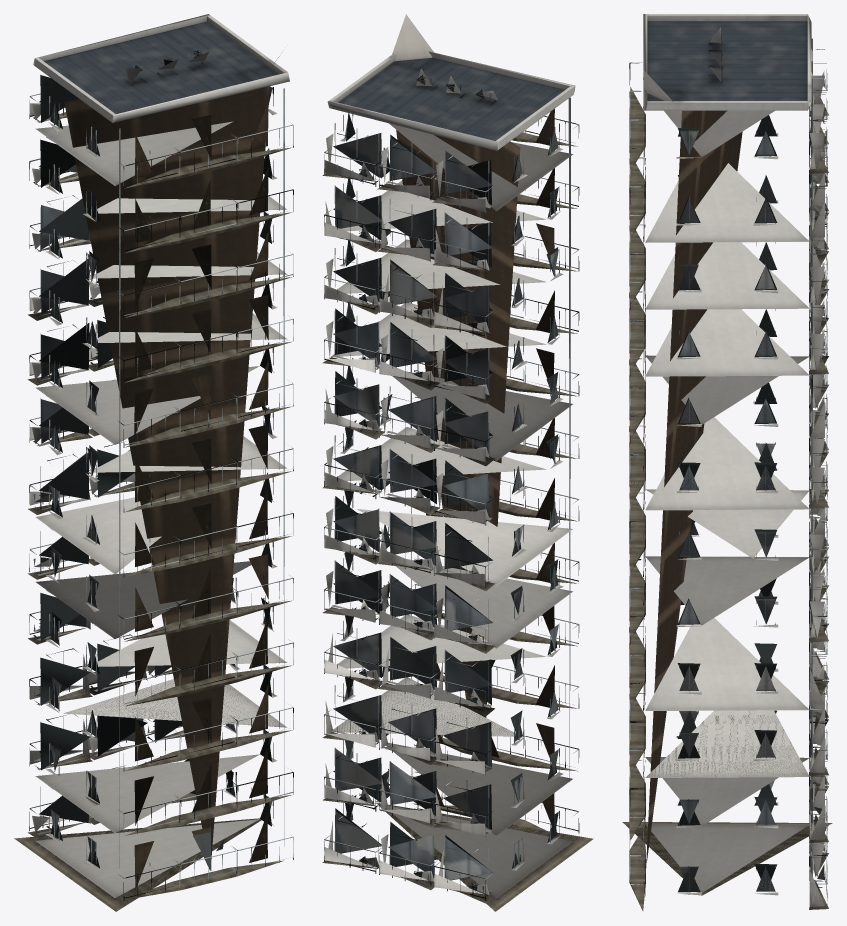
File: residential_010.lod2.obj
3 renders of one model, left to right at view 1: azimuth 30°, elevation 25°; view 2: azimuth 150°, elevation 25°; view 3: azimuth 270°, elevation 25°, orthographic. The views are drawn at different scales.
Visible parts, largest first — view 1: residential_010; view 2: residential_010; view 3: residential_010.
Boxes of the visible parts, x1=… form: residential_010: x1=14, y1=14, x2=293, y2=911; residential_010: x1=322, y1=14, x2=593, y2=911; residential_010: x1=622, y1=14, x2=832, y2=910.
Bounding box in the file's own units: 8.8 × 36.61 × 8.27.
1 material, 1 textured.
